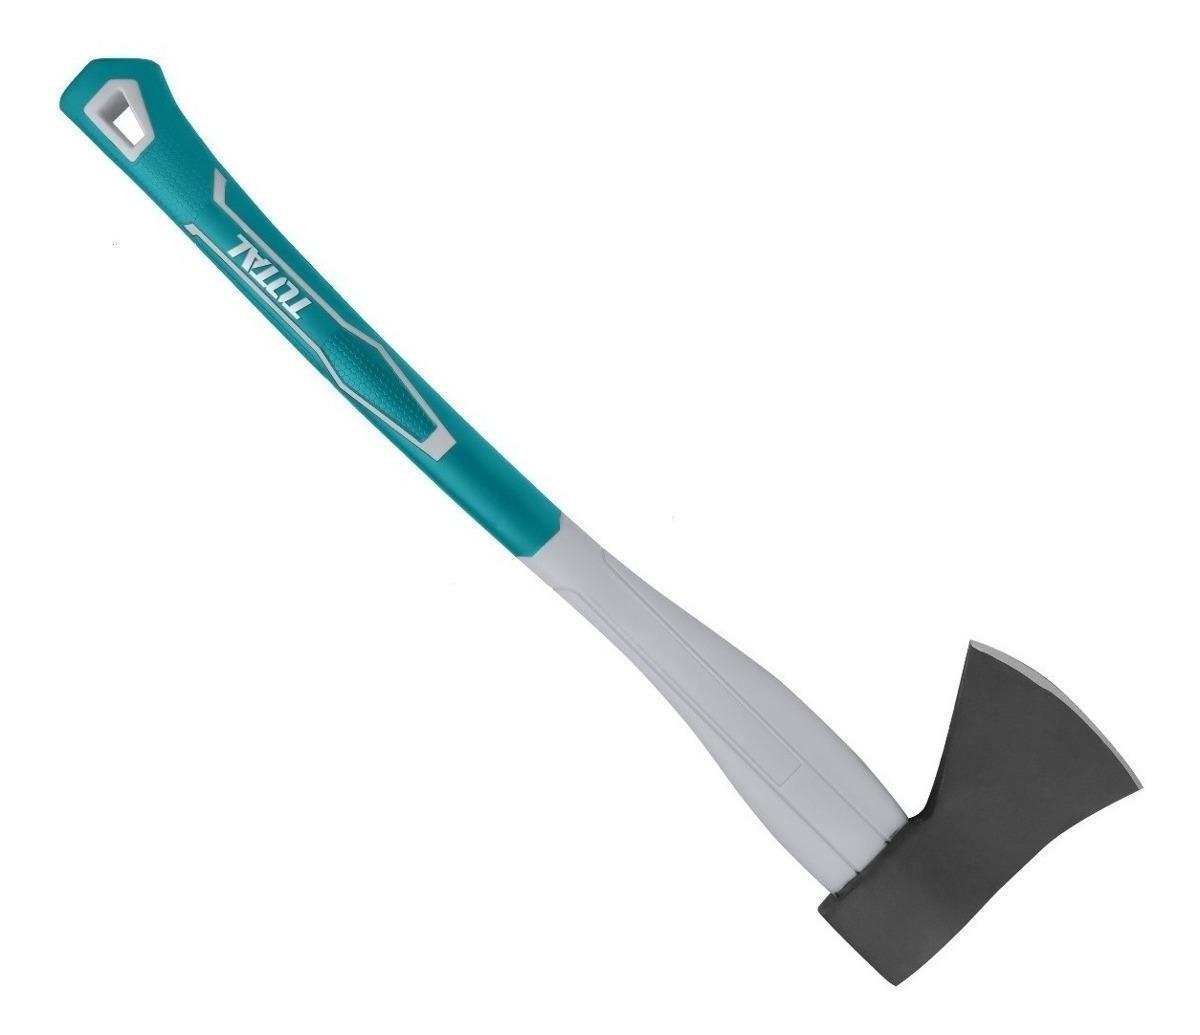machado: (60, 59, 1141, 984)
